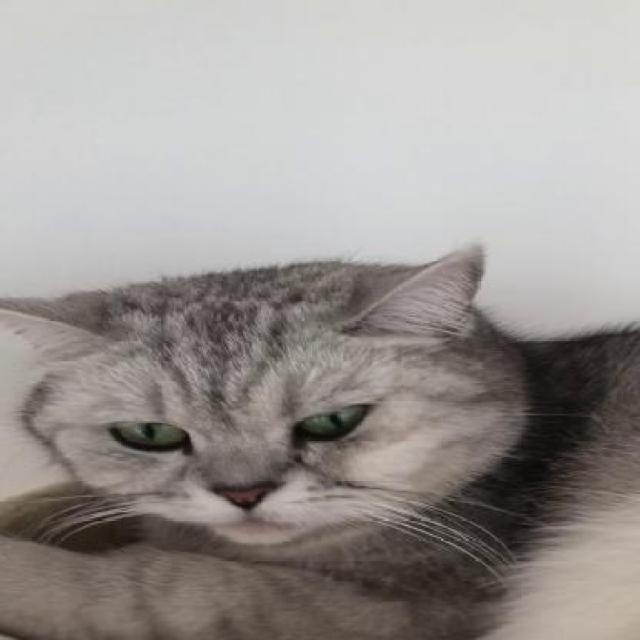cat-face: (7, 290, 528, 546)
